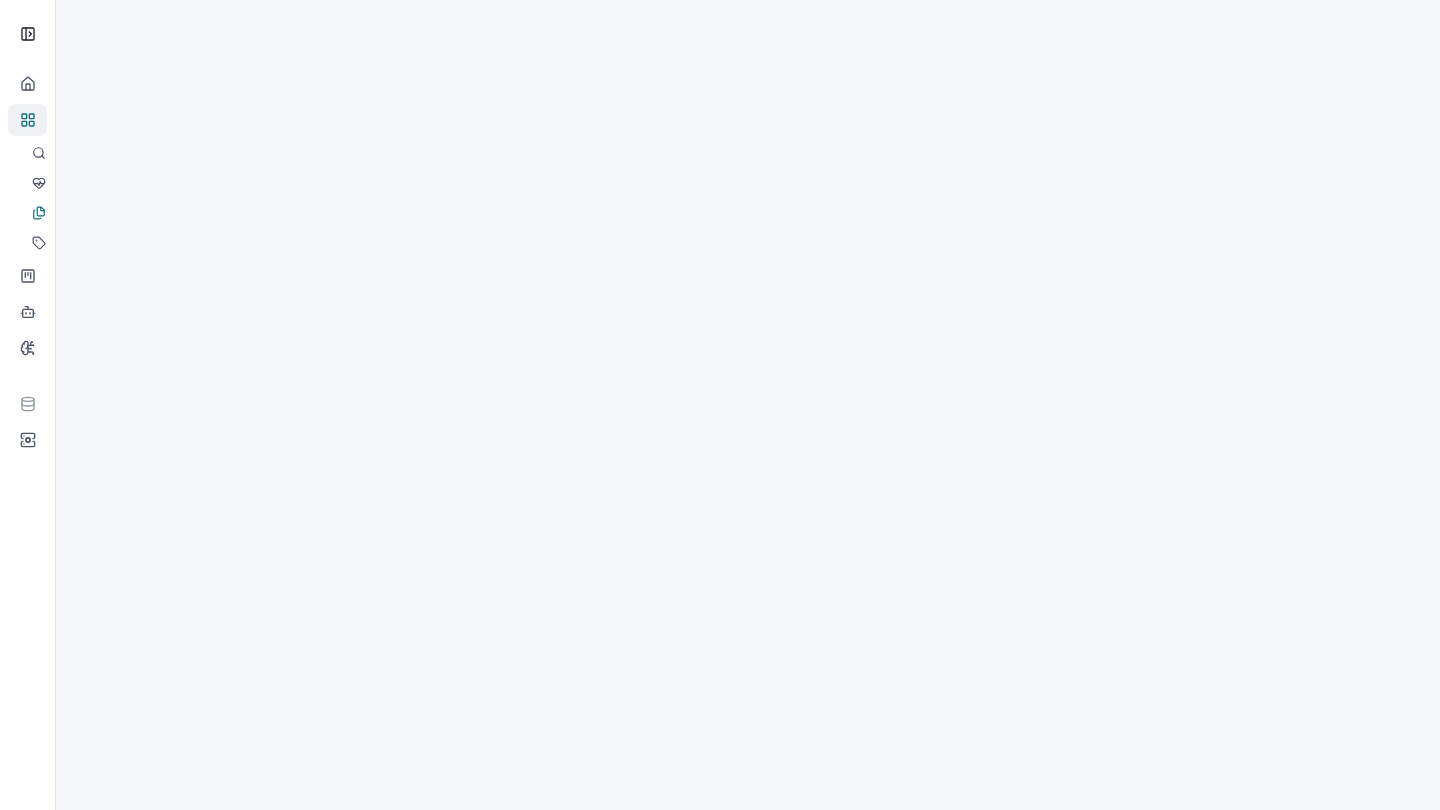
Test case: Sidebar on a phone (<md, UI-22) › toggle click opens the OVERLAY: fixed box, dialog semantics, scroll lock, focus into the panel
This screenshot has width=1440, height=810.
Click the button named "Развернуть панель". click: (28, 34)
box: x1=10 y1=16 x2=46 y2=52
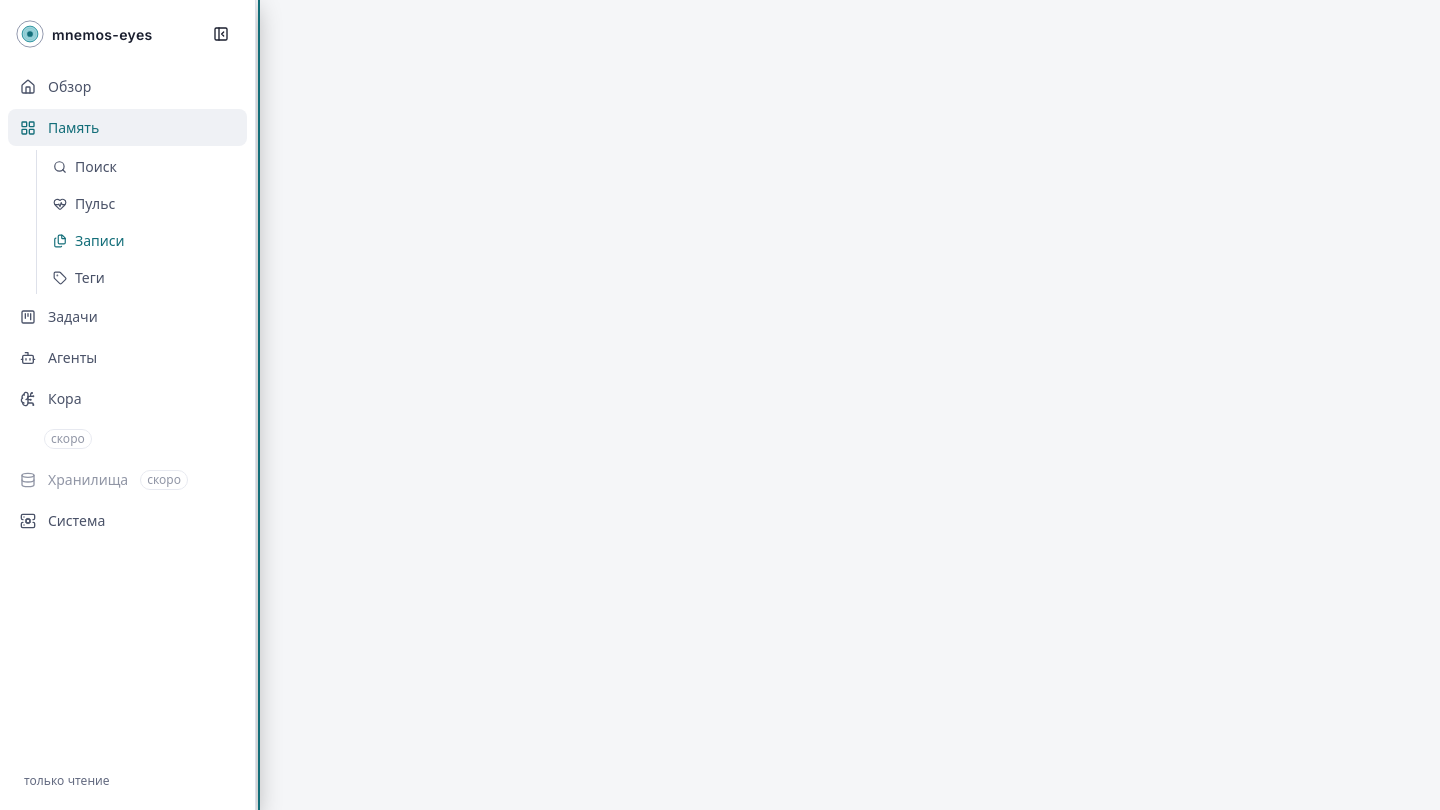
Now the button named "Развернуть панель" is expanded, box x1=203 y1=16 x2=239 y2=52
